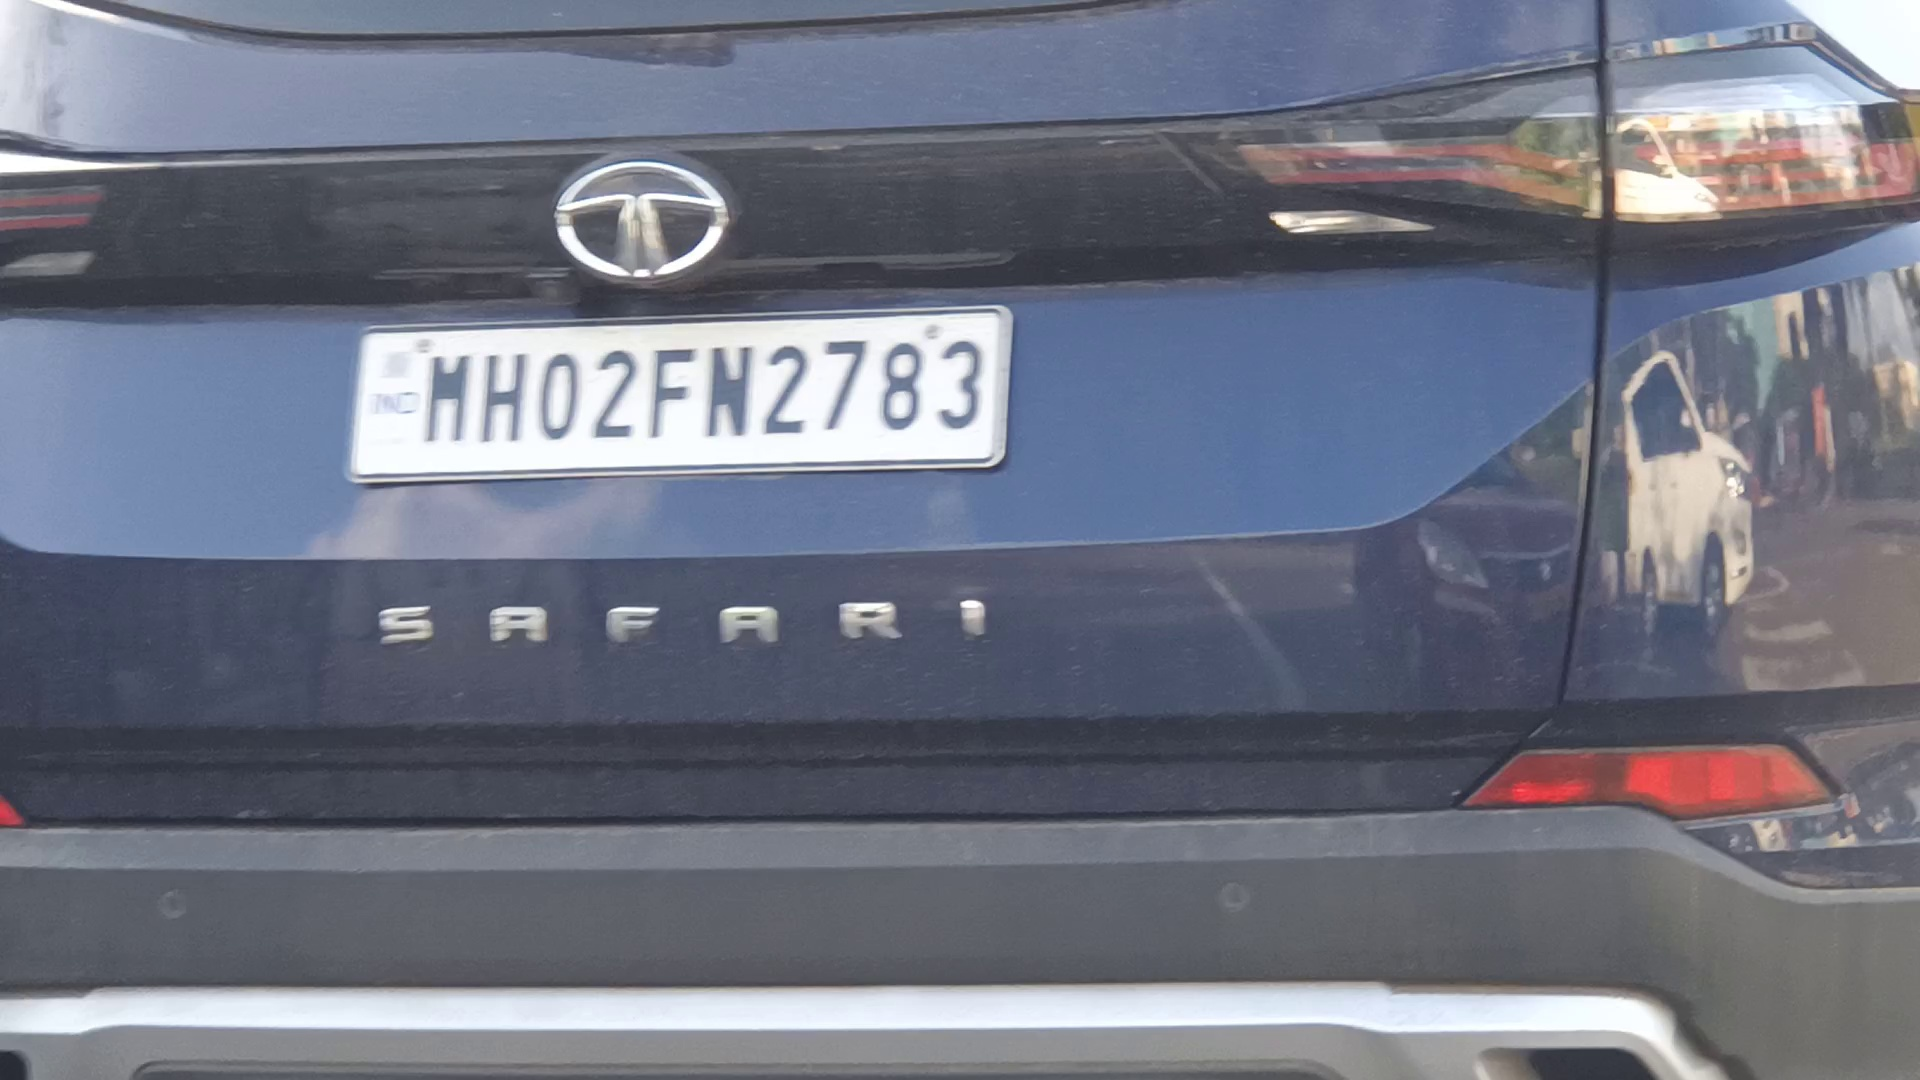MH02FN2783: (354, 304, 1009, 482)
